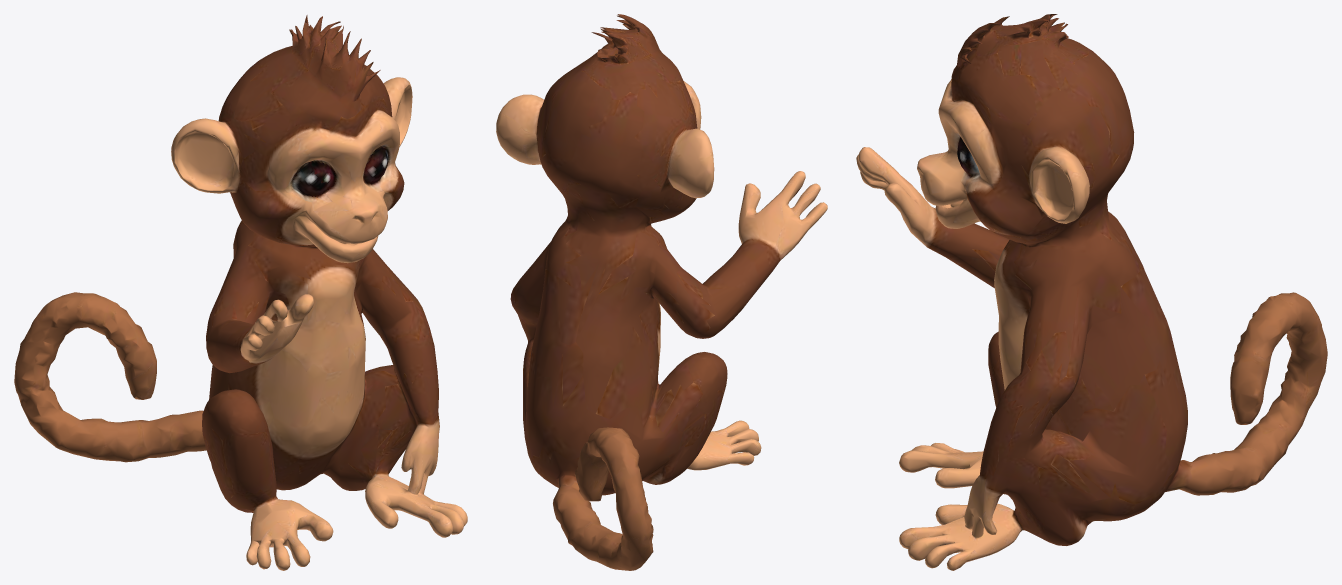
Rendered from monkey.glb.
The picture shows the model from 3 angles, left to right: view 1: azimuth 30°, elevation 25°; view 2: azimuth 150°, elevation 25°; view 3: azimuth 270°, elevation 25°; orthographic projection. The views are drawn at different scales.
Bounding box in the file's own units: 1.14 × 1.89 × 1.59.
Materials: 1 (1 with a texture image).
